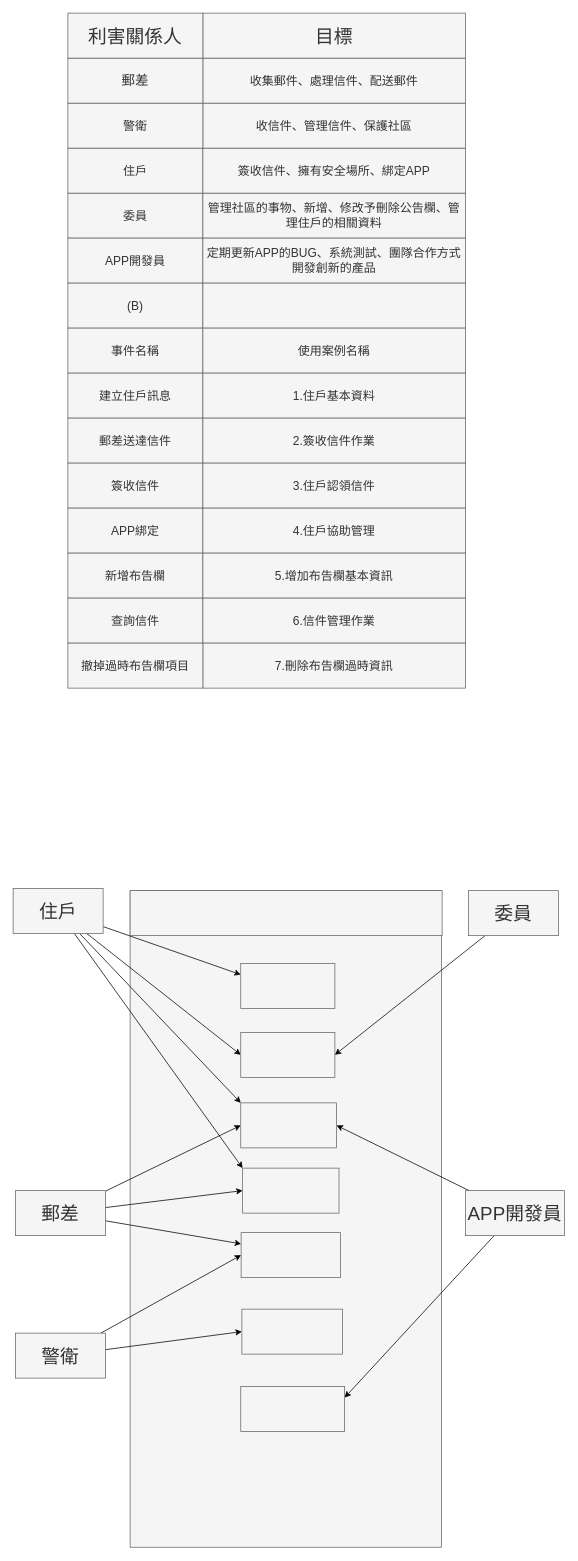
Image size: 578x1561. Some labels were removed from this diagram. Each missing label, with the centre of its shape:
"APP提供是否有異常或是更新通知需要變動" belongs at point 292,1408.
"使用APP提供個人意見及想法，或是獲得反饋" belongs at point 288,1125.
"使用APP新增或編輯使用者資料" belongs at point 287,985.
"使用APP查看包裹是否送達" belongs at point 290,1190.
"使用APP查看或發布社區公告" belongs at point 287,1054.
"使用APP查看收件時間與住戶位置" belongs at point 290,1255.
"社區大樓管理APP" belongs at point 285,913.
"讓警衛進行簽收" belongs at point 291,1331.
